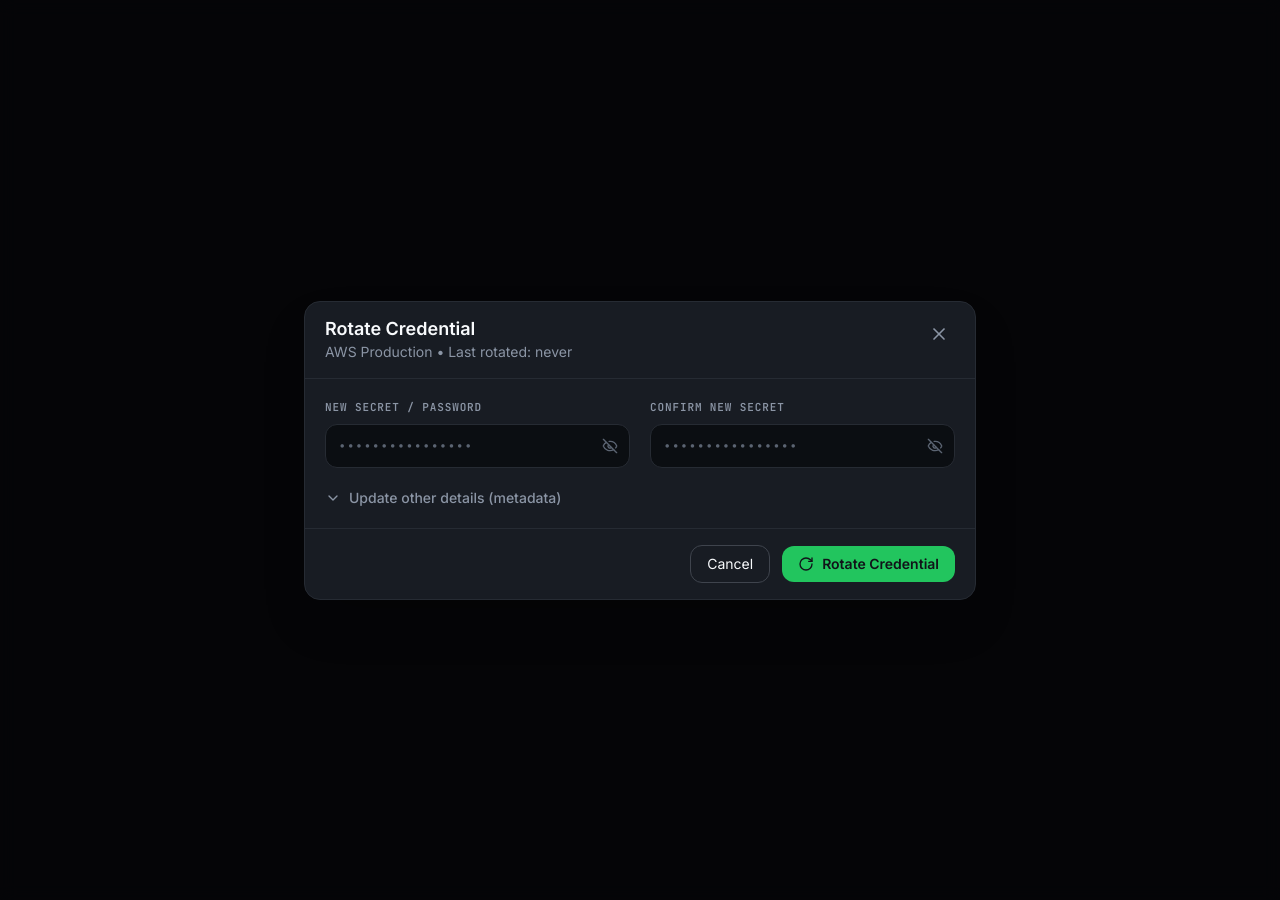
it: RotateCredentialModal metadata permissions › shows metadata controls to the organizational admin
The image size is (1280, 900).
Click the button "Update other details (metadata)".
click(443, 498)  # box [325,488,562,508]
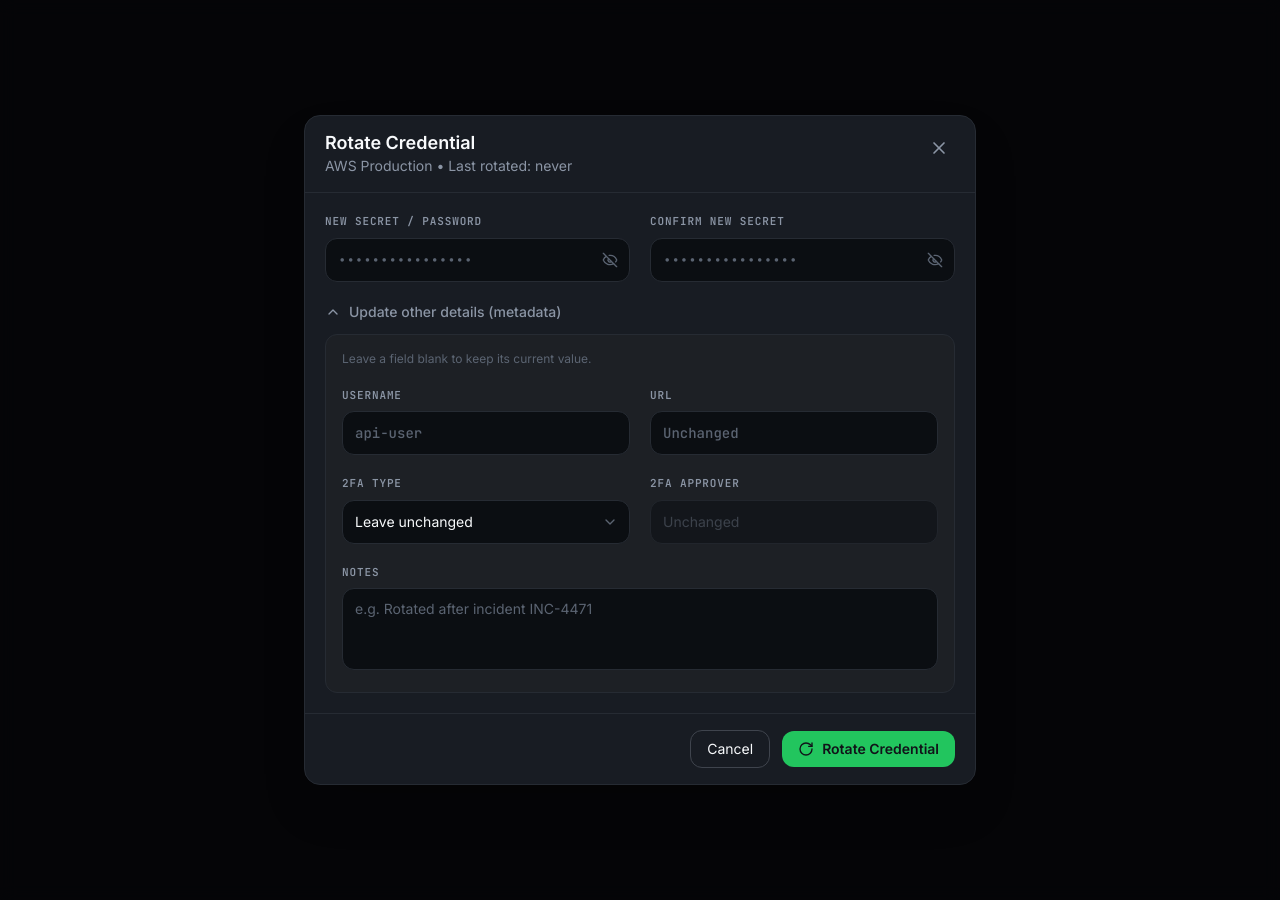
Now the field labelled "Username" is shown, box [342,411,630,455]
Now the field labelled "URL" is shown, box [650,411,938,455]
Now the dropdown labelled "2FA Type" is shown, box [342,500,630,544]
